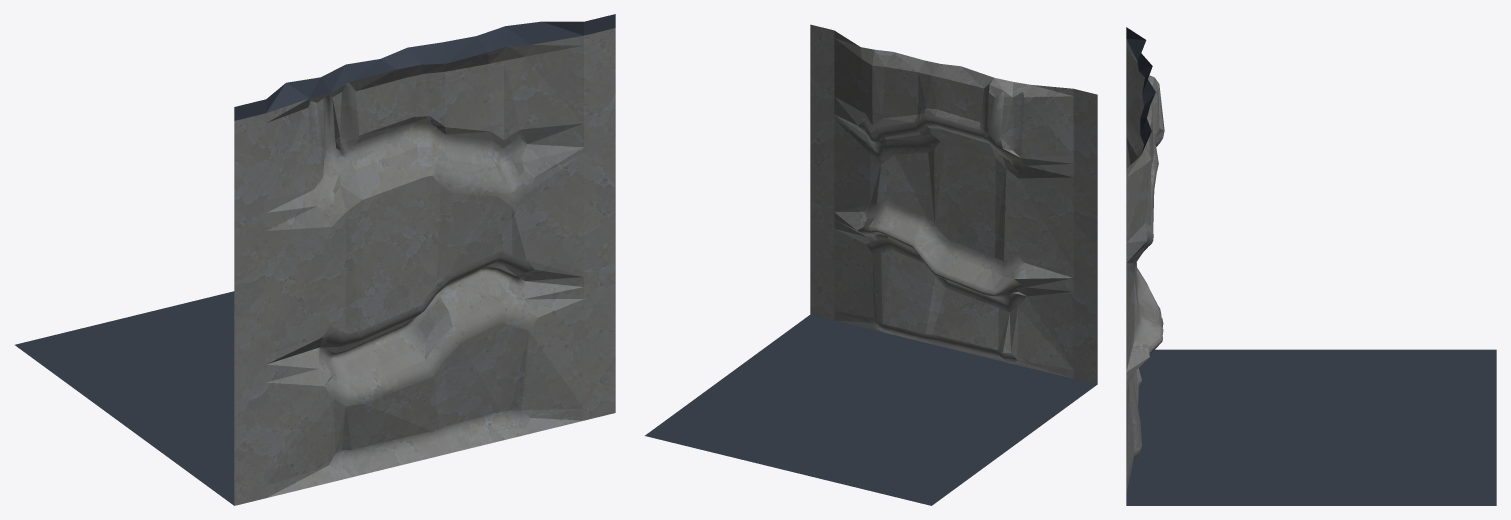
The model's file is cliff_wall_edge_b.glb.
3 renders of one model, left to right at view 1: azimuth 30°, elevation 25°; view 2: azimuth 150°, elevation 25°; view 3: azimuth 270°, elevation 25°, orthographic. The views are drawn at different scales.
Visible parts, largest first — view 1: CliffWall_edge_b_Body.001; view 2: CliffWall_edge_b_Body.001; view 3: CliffWall_edge_b_Body.001.
Part boxes in pixels (<box>): CliffWall_edge_b_Body.001: <box>15,14,615,505</box>; CliffWall_edge_b_Body.001: <box>645,24,1097,505</box>; CliffWall_edge_b_Body.001: <box>1126,27,1496,505</box>.
Bounding box in the file's own units: 1 × 1 × 1.
3 materials, 1 textured.
